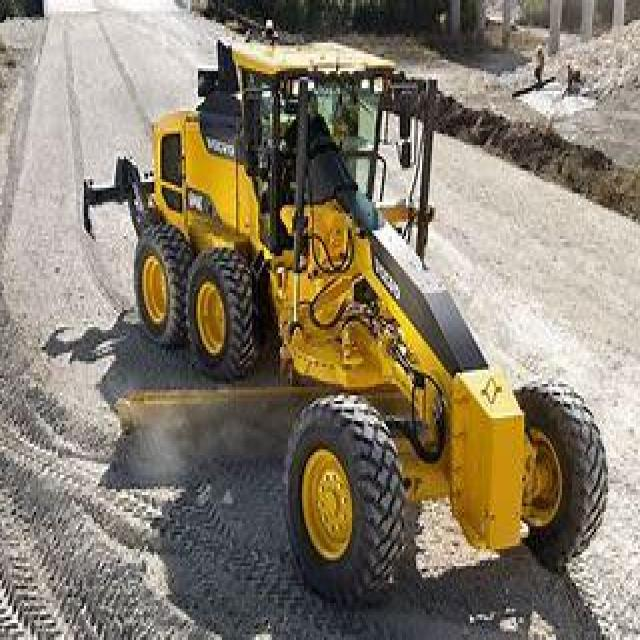Grader: (72, 23, 598, 589)
